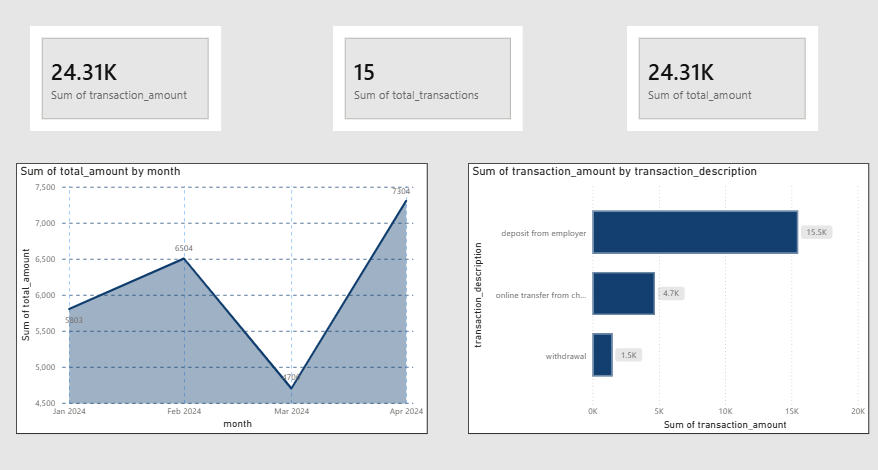

What the dashboard file says about the page in this screenshot:
{"tool":"powerbi","page":{"name":"Page 1","canvas":[1280,720],"ordinal":0},"visuals":[{"type":"lineChart","fields":{"Category":["public monthly_summary.month"],"Y":["Sum(public monthly_summary.total_amount)"]},"box":[25,238.3,588.3,386.7],"z":0},{"type":"cardVisual","fields":{"Data":["Sum(public transaction_facts.transaction_amount)"]},"box":[0,0,272.5,150],"z":1},{"type":"cardVisual","fields":{"Data":["Sum(public account_summary.total_transactions)"]},"box":[318.6,0,271.4,150],"z":2},{"type":"cardVisual","fields":{"Data":["Sum(public account_summary.total_amount)"]},"box":[651.4,0,272.9,150],"z":3},{"type":"clusteredBarChart","fields":{"Category":["public high_value_transactions.transaction_description"],"Y":["Sum(public high_value_transactions.transaction_amount)"]},"box":[671.7,263.3,505,313.3],"z":4}]}

Visuals, with their boxes on the page's 1280x720 design canvas (x1, y1, x2, y2). These are canvas units, not pixel positions in the 878x470 screenshot, which may show the page scaled, cropped or inside an application window:
lineChart - public monthly_summary.month x Sum(public monthly_summary.total_amount): bbox=(25, 238, 613, 625)
cardVisual - Sum(public transaction_facts.transaction_amount): bbox=(0, 0, 272, 150)
cardVisual - Sum(public account_summary.total_transactions): bbox=(319, 0, 590, 150)
cardVisual - Sum(public account_summary.total_amount): bbox=(651, 0, 924, 150)
clusteredBarChart - public high_value_transactions.transaction_description x Sum(public high_value_transactions.transaction_amount): bbox=(672, 263, 1177, 577)
